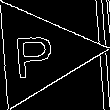P_N: (17, 26, 62, 80)
